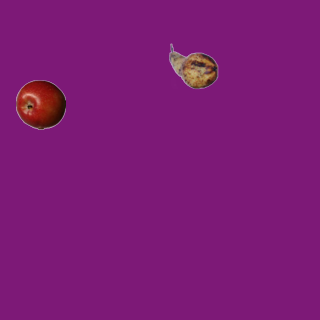Apple Braeburn: (15, 79, 65, 129)
Pear Abate: (168, 41, 218, 91)
